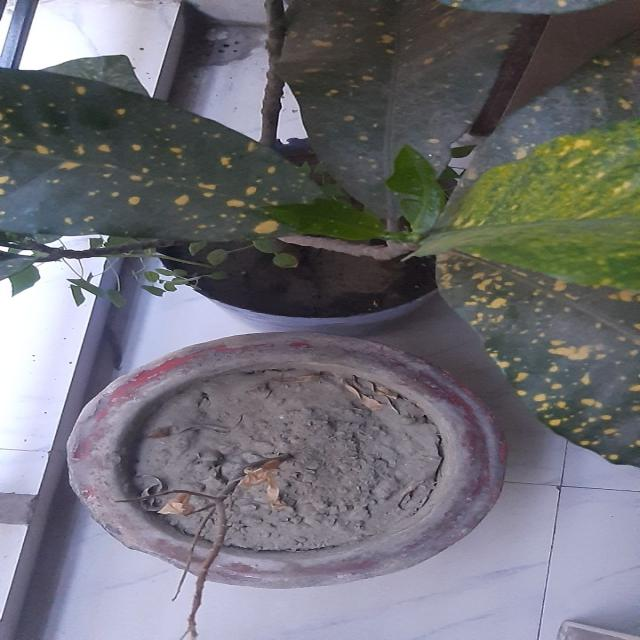Breeding Place: (34, 325, 530, 604), (132, 102, 581, 377)
